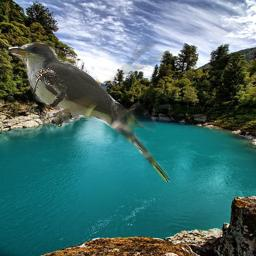Cuckoo: (7, 42, 170, 182)
